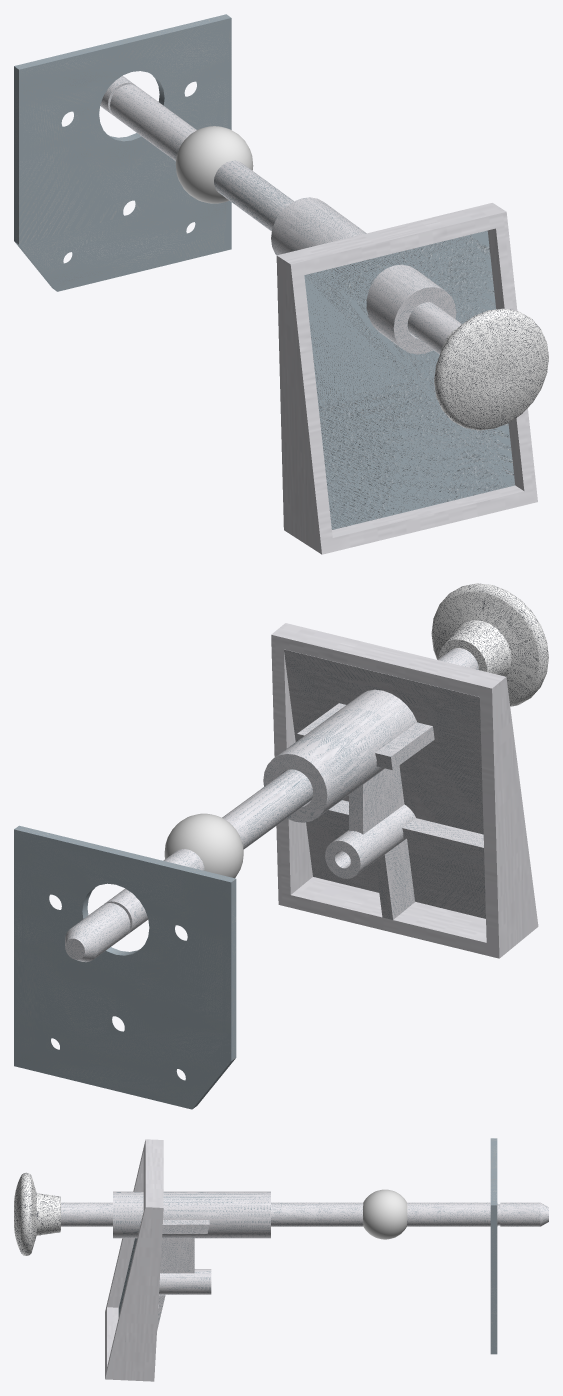
The model's file is plunger.FBX.
3 renders of one model, top to bottom at view 1: azimuth 30°, elevation 25°; view 2: azimuth 150°, elevation 25°; view 3: azimuth 270°, elevation 25°, orthographic. The views are drawn at different scales.
Visible parts, largest first — view 1: ID29, ID152, instance_0, PlungerHead, ID21, instance_7, restraint, ID106; view 2: ID29, instance_2, instance_0, ID21, PlungerHead, ID106, instance_7, restraint, ID127, ID319, ID173, ID205 (+1 smaller); view 3: instance_0, ID21, instance_7, PlungerHead, restraint, ID29, ID106, ID319, ID173, ID127, ID189.
Part boxes in pixels (left/top/right/bottom): ID29: left=14, top=14, right=231, bottom=291; ID152: left=304, top=230, right=514, bottom=529; instance_0: left=276, top=203, right=537, bottom=554; PlungerHead: left=434, top=308, right=548, bottom=430; ID21: left=271, top=197, right=456, bottom=354; instance_7: left=110, top=84, right=461, bottom=354; restraint: left=175, top=126, right=253, bottom=203; ID106: left=332, top=228, right=524, bottom=537; ID29: left=14, top=825, right=236, bottom=1109; instance_2: left=284, top=649, right=485, bottom=918; instance_0: left=271, top=623, right=538, bottom=958; ID21: left=263, top=689, right=416, bottom=822; PlungerHead: left=431, top=583, right=548, bottom=706; ID106: left=284, top=652, right=486, bottom=942; instance_7: left=106, top=648, right=478, bottom=933; restraint: left=164, top=813, right=243, bottom=878; ID127: left=325, top=804, right=415, bottom=878; ID319: left=65, top=903, right=130, bottom=962; ID173: left=348, top=765, right=404, bottom=834; ID205: left=375, top=839, right=414, bottom=919; instance_0: left=105, top=1139, right=163, bottom=1381; ID21: left=113, top=1191, right=270, bottom=1238; instance_7: left=61, top=1202, right=497, bottom=1226; PlungerHead: left=14, top=1172, right=60, bottom=1255; restraint: left=363, top=1189, right=407, bottom=1239; ID29: left=490, top=1138, right=497, bottom=1354; ID106: left=107, top=1152, right=143, bottom=1366; ID319: left=497, top=1202, right=548, bottom=1226; ID173: left=160, top=1238, right=194, bottom=1273; ID127: left=159, top=1269, right=211, bottom=1294; ID189: left=162, top=1220, right=209, bottom=1233.
Bounding box in the file's own units: 6.31 × 7.43 × 20.64.
7 materials, 5 textured.
